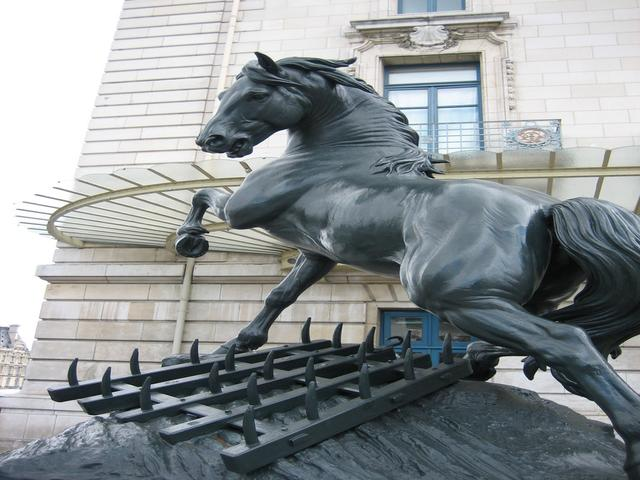horse: (167, 20, 640, 360)
